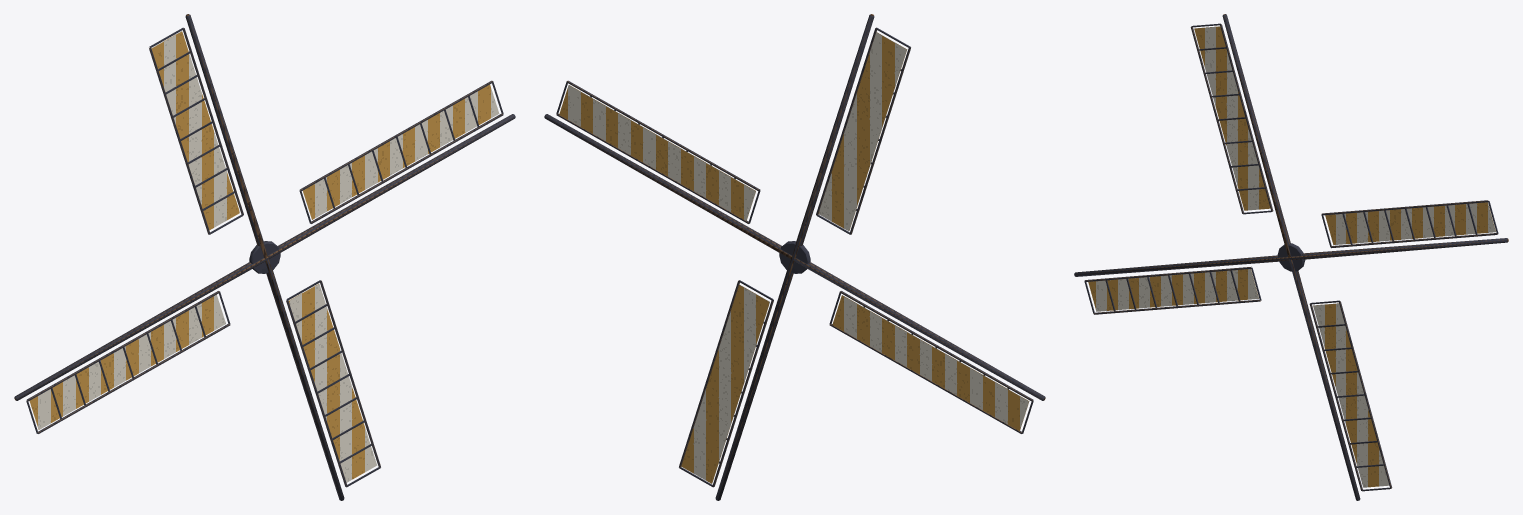
File: windmill_blades_1.glb
3 renders of one model, left to right at view 1: azimuth 30°, elevation 25°; view 2: azimuth 150°, elevation 25°; view 3: azimuth 330°, elevation 25°, orthographic. The views are drawn at different scales.
Visible parts, largest first — view 1: windmill_blades_2; view 2: windmill_blades_2; view 3: windmill_blades_2.
Boxes of the visible parts, x1,y1,x2,y2 form: windmill_blades_2: (14, 14, 515, 500); windmill_blades_2: (544, 14, 1045, 500); windmill_blades_2: (1074, 14, 1508, 500).
Size of the model in its own units: 9.95 by 9.95 by 0.1535.
Materials: 4 (4 with a texture image).
